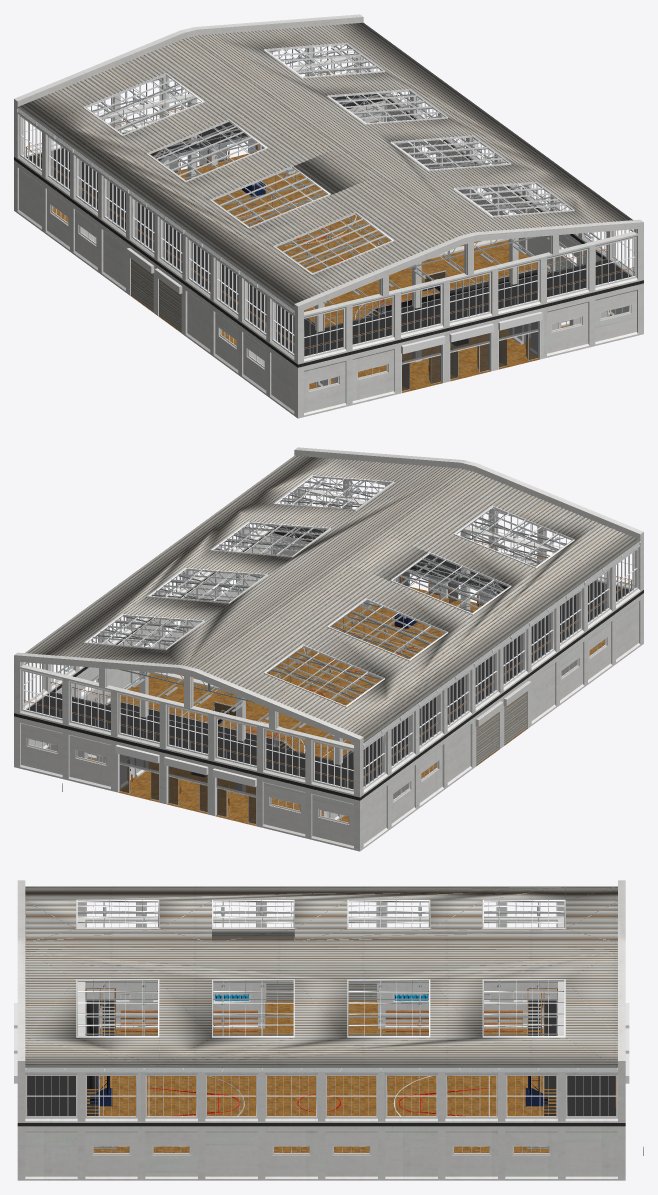
Rendered from court.glb.
3 renders of one model, top to bottom at view 1: azimuth 30°, elevation 25°; view 2: azimuth 150°, elevation 25°; view 3: azimuth 270°, elevation 25°, orthographic. The views are drawn at different scales.
Visible parts, largest first — view 1: PlatedDoors_MetalPlatesShader_0, DoorTrims_PlasterShader_0, BackBoardTrims_WhiteBackboardShader_0, LevelFloor_FloorsShader_0, GymFloor_ParquetShader_0, Bolts_GalvanizedMetalShader_0, EntranceDoors1_GlassShader_0, Lights_PolishedMetalShader_0, EntranceDoors1_WoodFineShader_0; view 2: PlatedDoors_MetalPlatesShader_0, DoorTrims_PlasterShader_0, BackBoardTrims_WhiteBackboardShader_0, LevelFloor_FloorsShader_0, GymFloor_ParquetShader_0, Bolts_GalvanizedMetalShader_0, EntranceDoors1_GlassShader_0, Lights_PolishedMetalShader_0, EntranceDoors1_WoodFineShader_0; view 3: PlatedDoors_MetalPlatesShader_0, DoorTrims_PlasterShader_0, BackBoardTrims_WhiteBackboardShader_0, GymFloor_ParquetShader_0, LevelFloor_FloorsShader_0, Bolts_GalvanizedMetalShader_0, EntranceDoors1_WoodFineShader_0, Lights_PolishedMetalShader_0, Court_WhiteTapeShader_0, AmericanFlag_BasketballBaseShader_0.
Part boxes in pixels (x1,y1,x2,y2): PlatedDoors_MetalPlatesShader_0: (17, 22, 632, 332); DoorTrims_PlasterShader_0: (14, 14, 643, 418); BackBoardTrims_WhiteBackboardShader_0: (17, 43, 636, 393); LevelFloor_FloorsShader_0: (14, 93, 643, 367); GymFloor_ParquetShader_0: (53, 152, 610, 392); Bolts_GalvanizedMetalShader_0: (18, 45, 633, 312); EntranceDoors1_GlassShader_0: (161, 139, 538, 390); Lights_PolishedMetalShader_0: (26, 47, 633, 353); EntranceDoors1_WoodFineShader_0: (25, 66, 633, 372); PlatedDoors_MetalPlatesShader_0: (25, 455, 640, 765); DoorTrims_PlasterShader_0: (14, 447, 643, 851); BackBoardTrims_WhiteBackboardShader_0: (21, 475, 640, 826); LevelFloor_FloorsShader_0: (14, 526, 643, 800); GymFloor_ParquetShader_0: (47, 586, 604, 825); Bolts_GalvanizedMetalShader_0: (24, 478, 639, 745); EntranceDoors1_GlassShader_0: (119, 572, 497, 823); Lights_PolishedMetalShader_0: (24, 480, 631, 786); EntranceDoors1_WoodFineShader_0: (24, 499, 632, 805); PlatedDoors_MetalPlatesShader_0: (25, 886, 617, 1067); DoorTrims_PlasterShader_0: (17, 880, 625, 1180); BackBoardTrims_WhiteBackboardShader_0: (14, 899, 629, 1154); GymFloor_ParquetShader_0: (87, 1001, 556, 1152); LevelFloor_FloorsShader_0: (17, 1000, 625, 1126); Bolts_GalvanizedMetalShader_0: (26, 901, 616, 1071); EntranceDoors1_WoodFineShader_0: (27, 988, 616, 1115); Lights_PolishedMetalShader_0: (27, 905, 616, 1152); Court_WhiteTapeShader_0: (148, 1076, 489, 1116); AmericanFlag_BasketballBaseShader_0: (90, 1076, 547, 1106).
Size of the model in its own units: 27.64 by 10.91 by 40.3.
Materials: 21 (9 with a texture image).
